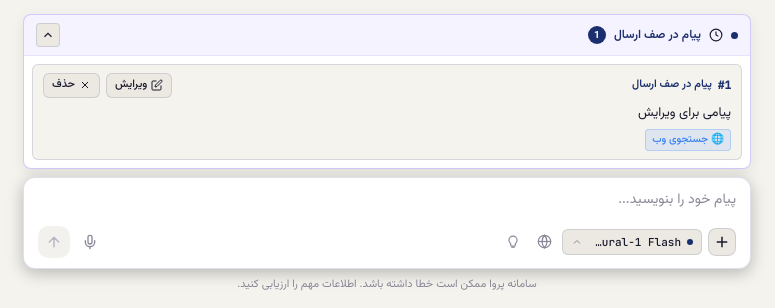
Test: Message Queue Feature (قابلیت پیام در صف) › 2. Editing a queued message removes it from queue and restores it into the composer textarea
Expected: the element with test id "queued-messages-container" is shown, [23,14,751,169]
Expected: the element with test id "queued-messages-container" shows "پیامی برای ویرایش", [638,102,731,122]
Click the button with test id "queued-edit-btn" at point(139, 85), box [106,73,172,98]
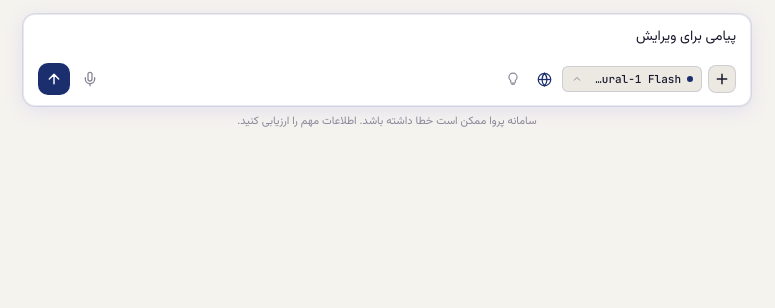
Expected: the text box holds "پیامی برای ویرایش", [38,27,736,51]
